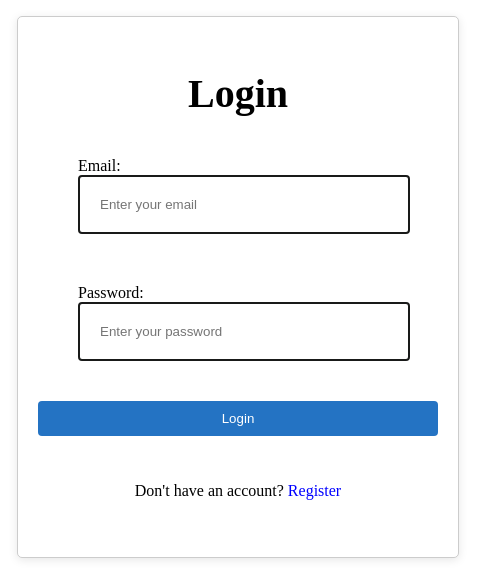
Test: Login Component › displays error for invalid email format
In the field labelled "Email:": (244,205) top-left (78, 175), bottom-right (410, 234), type "invalidemail"
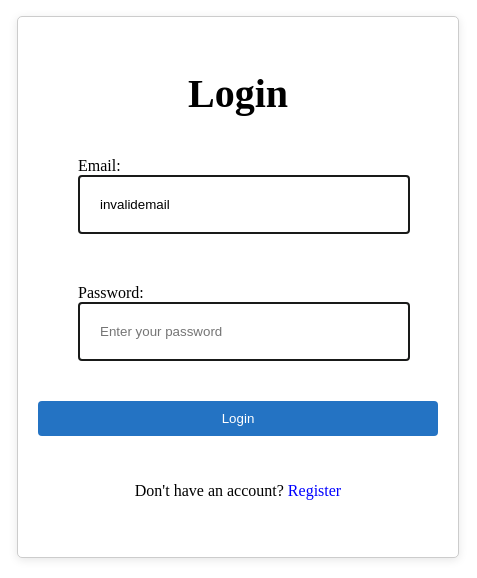
In the password field labelled "Password:": (244,332) top-left (78, 302), bottom-right (410, 361), type "validpassword"
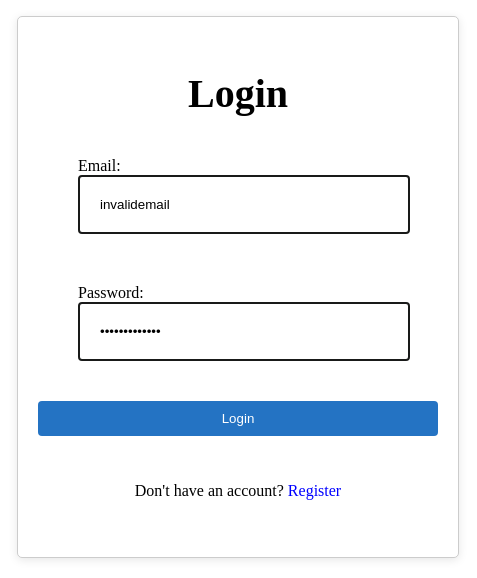
Click the button "Login": (238,419) top-left (38, 401), bottom-right (438, 436)
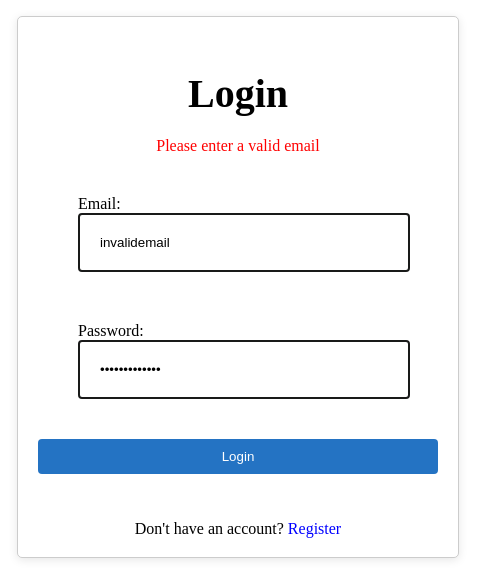
expect the text "Please enter a valid email" is shown: met, box top-left (156, 137), bottom-right (320, 154)
